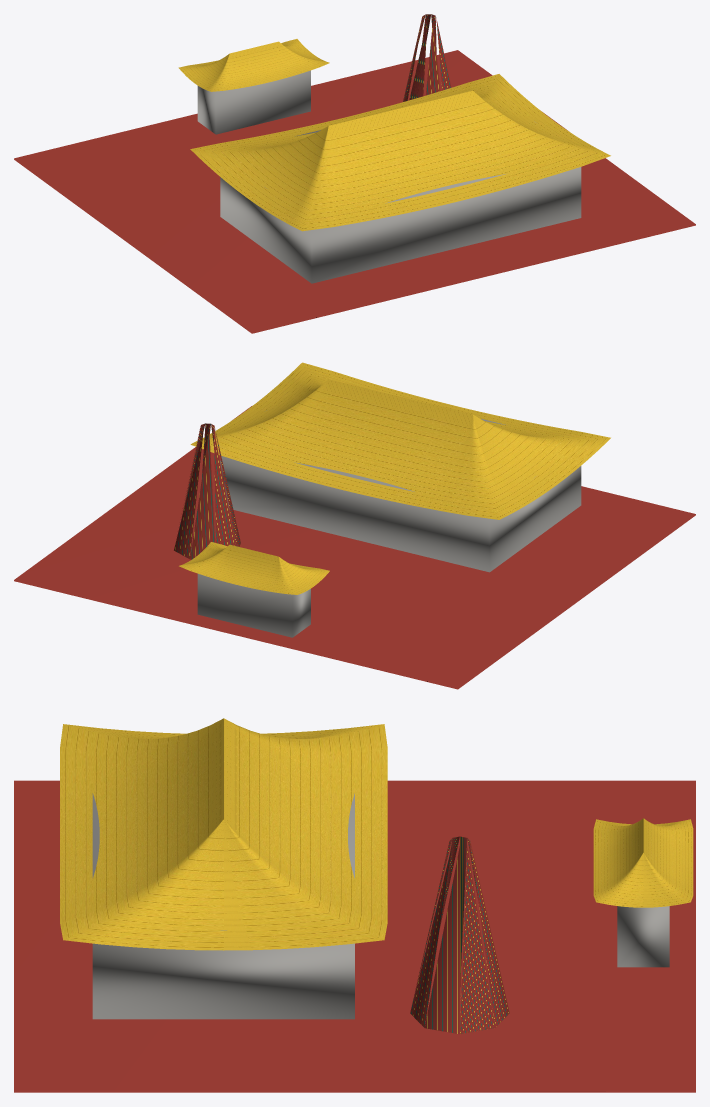
The picture shows the model from 3 angles, top to bottom: view 1: azimuth 30°, elevation 25°; view 2: azimuth 150°, elevation 25°; view 3: azimuth 270°, elevation 25°; orthographic projection. The views are drawn at different scales.
Parts seen in each view (by area): view 1: daeungjeon_simplified, ground_simplified, gate_simplified, pagoda_simplified; view 2: ground_simplified, daeungjeon_simplified, gate_simplified, pagoda_simplified; view 3: ground_simplified, daeungjeon_simplified, gate_simplified, pagoda_simplified.
Boxes of the visible parts, x1,y1,x2,y2 form: daeungjeon_simplified: (190,74,610,283); ground_simplified: (14,50,695,333); gate_simplified: (178,39,329,134); pagoda_simplified: (403,14,451,101); ground_simplified: (14,406,695,689); daeungjeon_simplified: (190,362,610,572); gate_simplified: (179,542,329,637); pagoda_simplified: (174,423,240,559); ground_simplified: (14,780,695,1092); daeungjeon_simplified: (60,718,387,1019); gate_simplified: (593,818,693,967); pagoda_simplified: (410,836,509,1034).
Bounding box in the file's own units: 56 × 14.65 × 52.
Materials: 4 (4 with a texture image).
